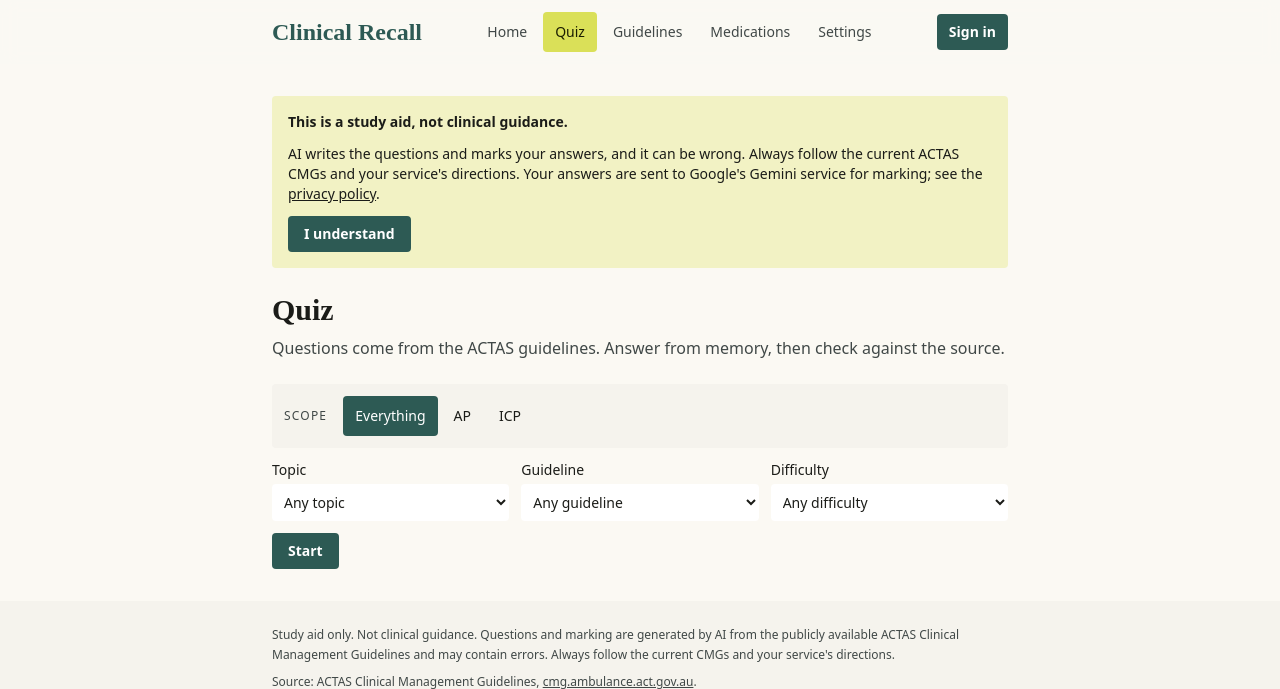
Scenario: quiz › sends the chosen scope
Click the radio button labelled "AP". click: (462, 416)
box: x1=442 y1=396 x2=483 y2=436
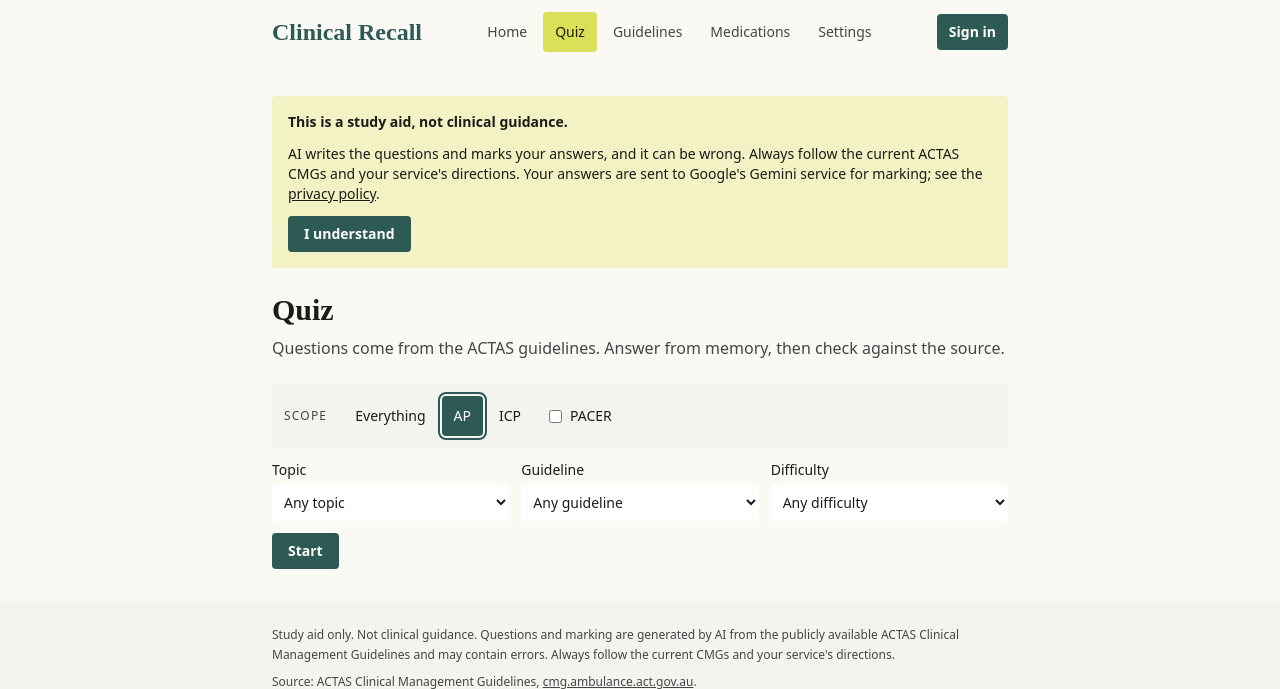
Click the button "Start". click: (305, 551)
box: x1=272 y1=533 x2=339 y2=569
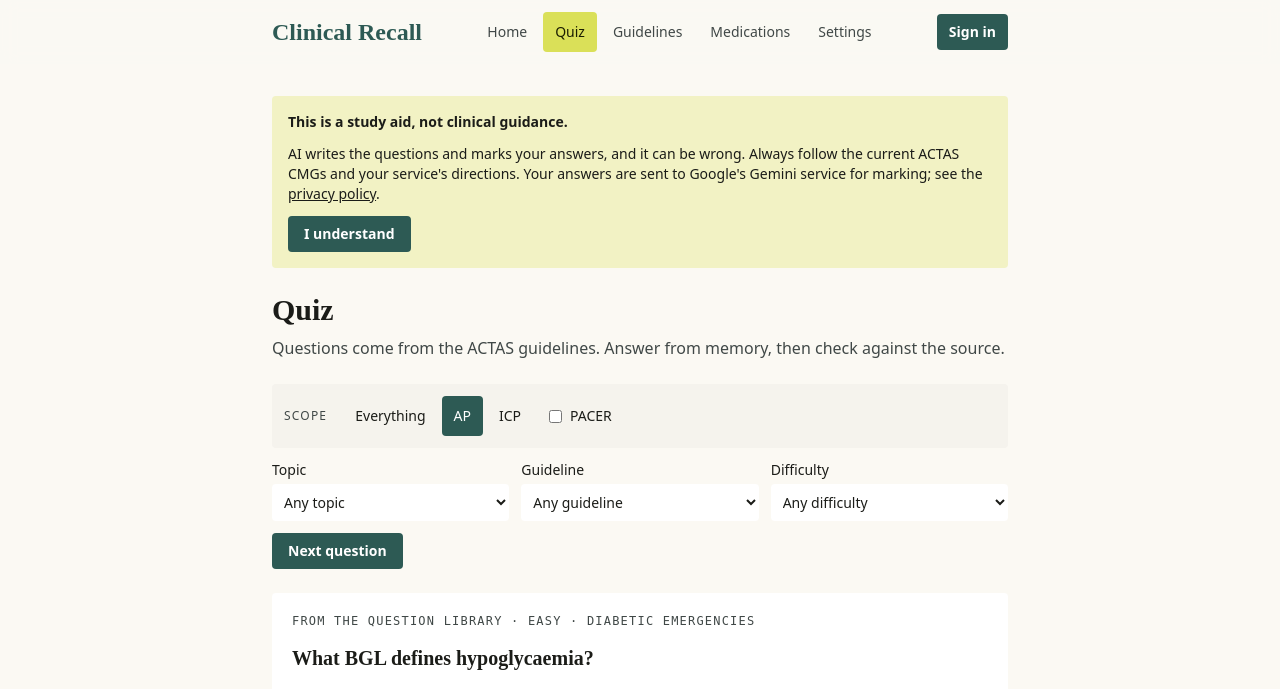
Result: the heading "What BGL defines hypoglycaemia?" is shown at x1=292 y1=647 x2=594 y2=669
